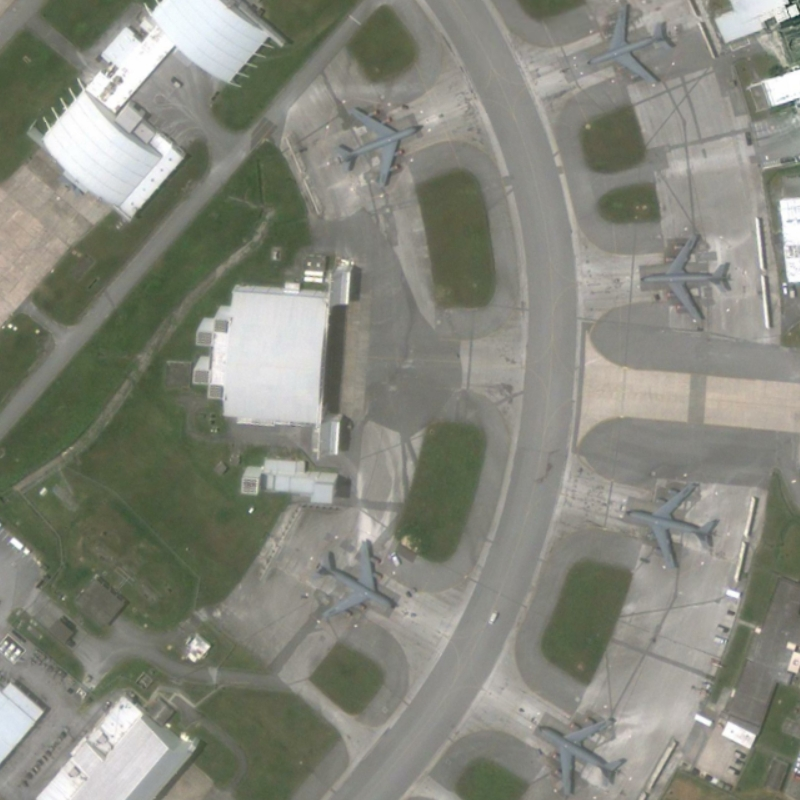A14: (618, 472, 725, 579), (637, 223, 733, 330), (330, 94, 426, 191), (583, 2, 681, 92), (530, 713, 630, 800), (308, 534, 401, 626)
